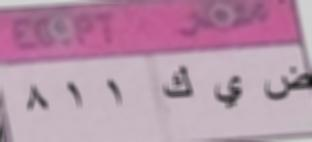1: (63, 75, 88, 114), (102, 75, 128, 109)
8: (23, 83, 50, 114)
daad: (259, 65, 312, 102)
kaaf: (157, 63, 199, 105)
yaa: (210, 73, 245, 110)
